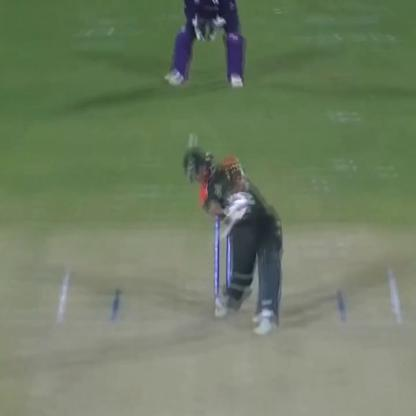ball: (181, 142, 206, 152), (186, 130, 201, 140)
bat: (206, 187, 254, 249)
pitch: (30, 262, 416, 416)
